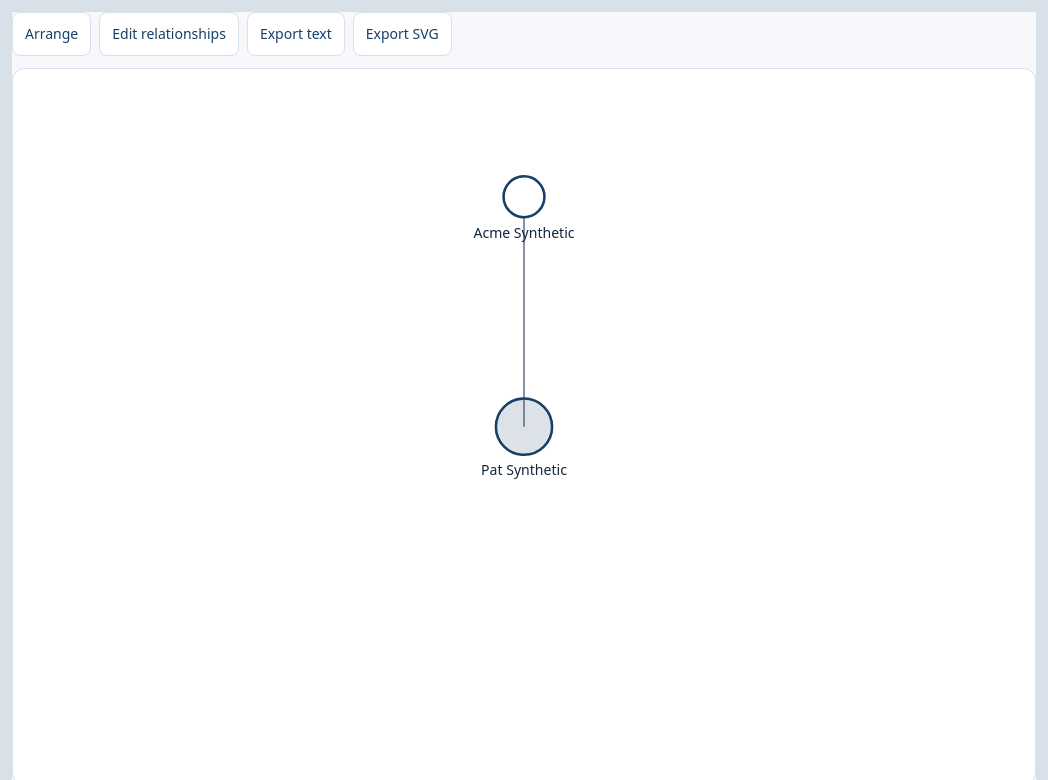
CanvasMapClient › creates only after graph reload, never from a client-fabricated edge
The image size is (1048, 780).
Step 1. Click the button with test id "canvas-relationship-edit-toggle" → (169,34), box x1=99 y1=12 x2=239 y2=56
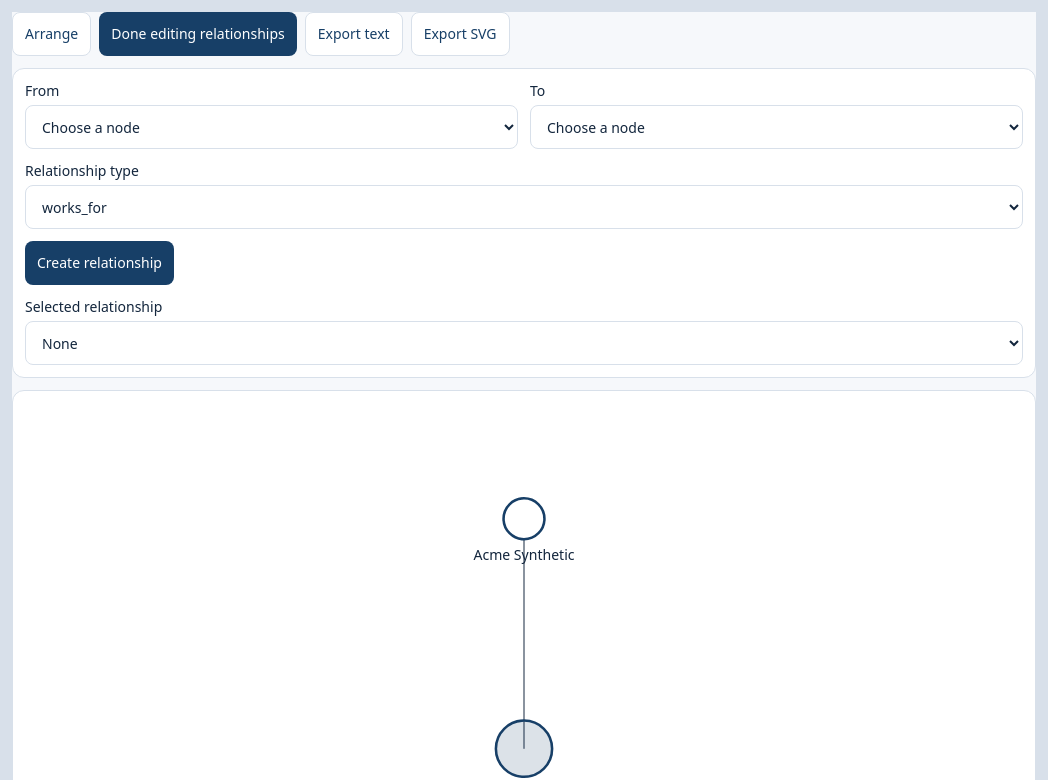
Step 2. Select "Pat Synthetic" in the dropdown labelled "From" → (272,127), box x1=25 y1=105 x2=518 y2=149
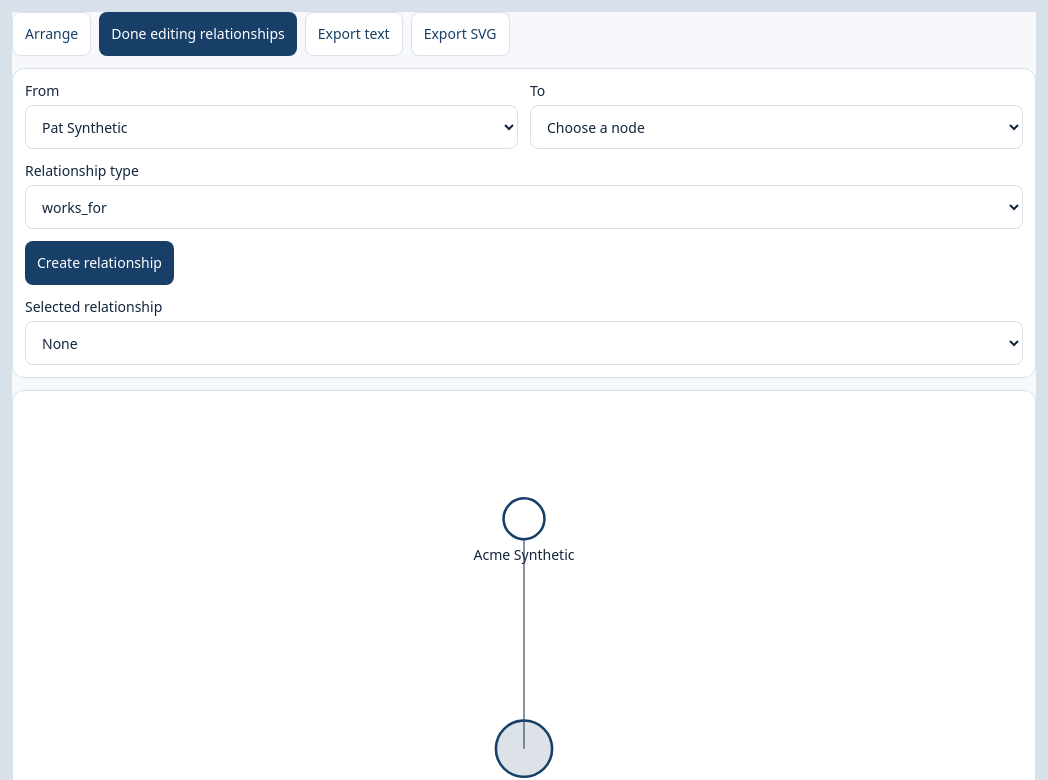
Step 3. Select "Acme Synthetic" in the dropdown labelled "To" → (776,127), box x1=530 y1=105 x2=1023 y2=149
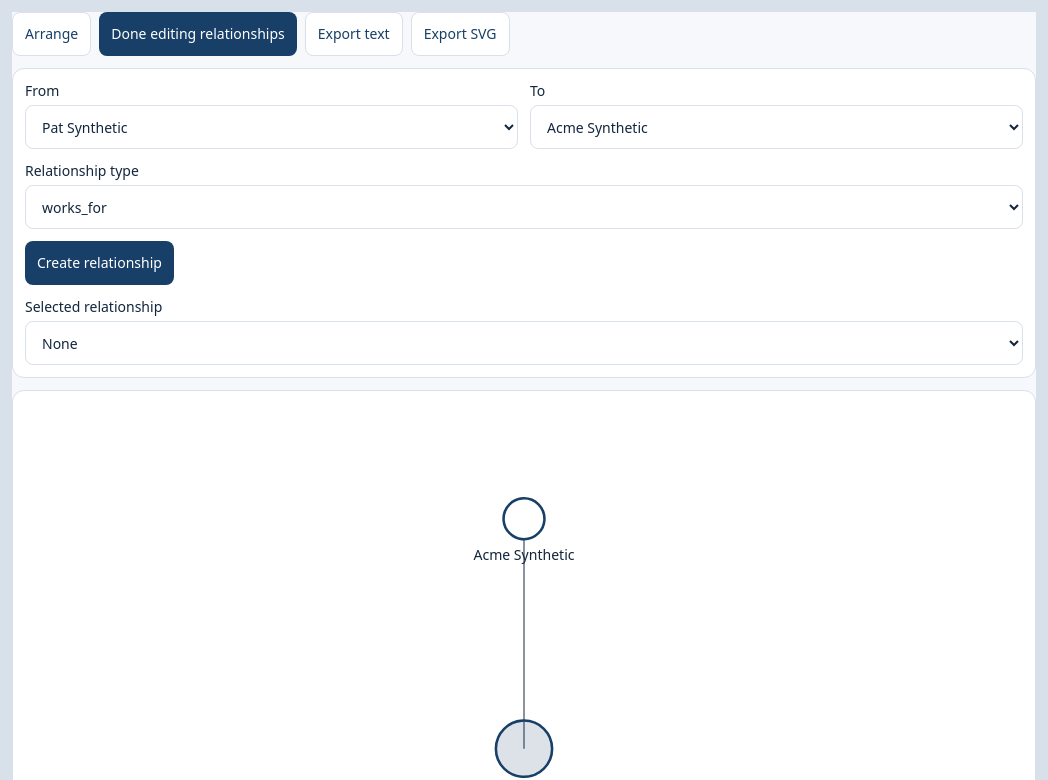
Step 4. Select "reports_to" in the dropdown labelled "Relationship type" → (524,207), box x1=25 y1=185 x2=1023 y2=229
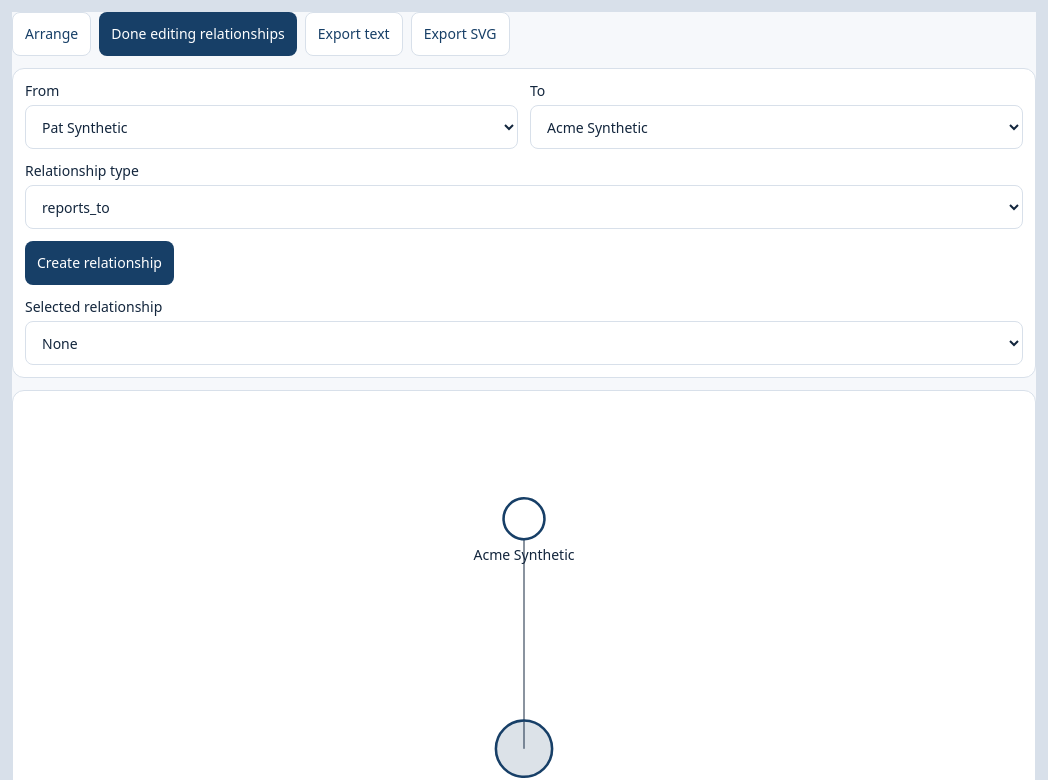
Step 5. Click the button with test id "canvas-relationship-create-submit" → (99,263), box x1=25 y1=241 x2=174 y2=285
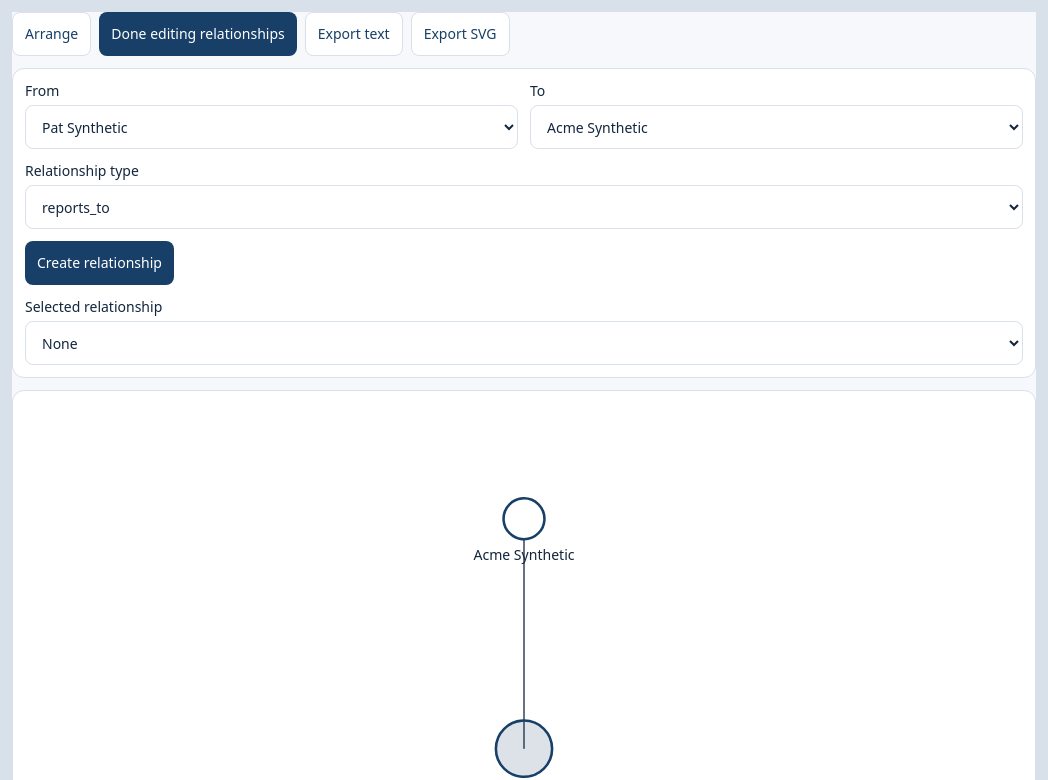
Step 6. Click the button with test id "canvas-relationship-edit-toggle" → (198,34), box x1=99 y1=12 x2=297 y2=56
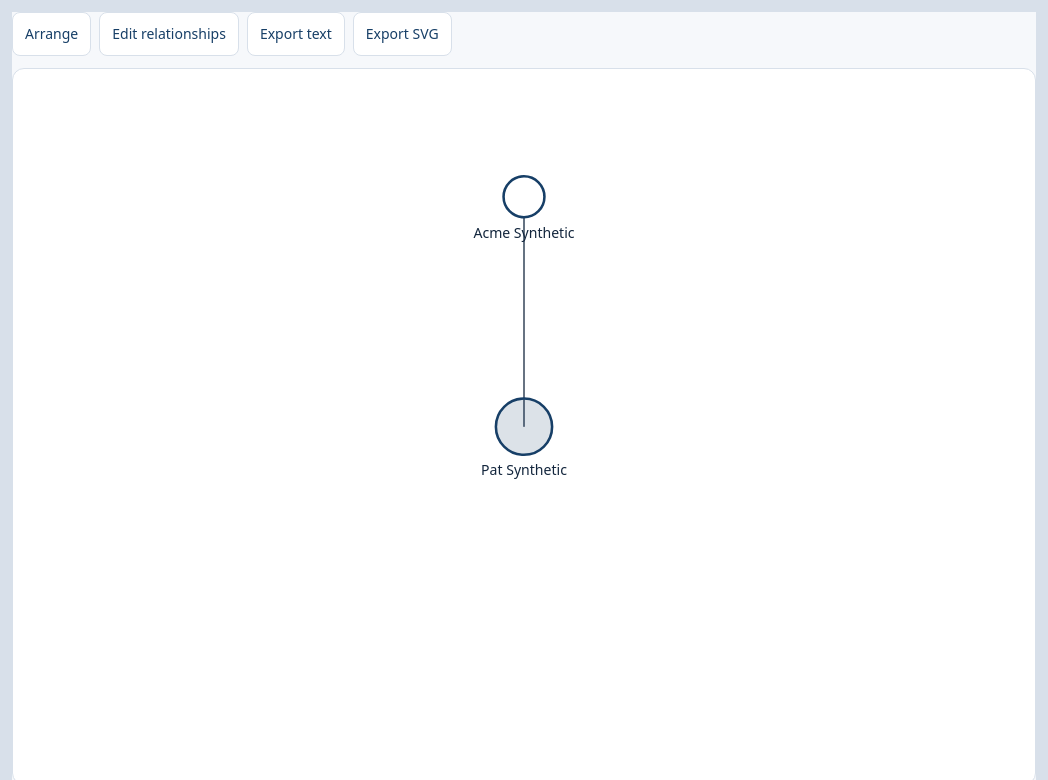
Expected: the form with test id "canvas-relationship-create-form" is gone
